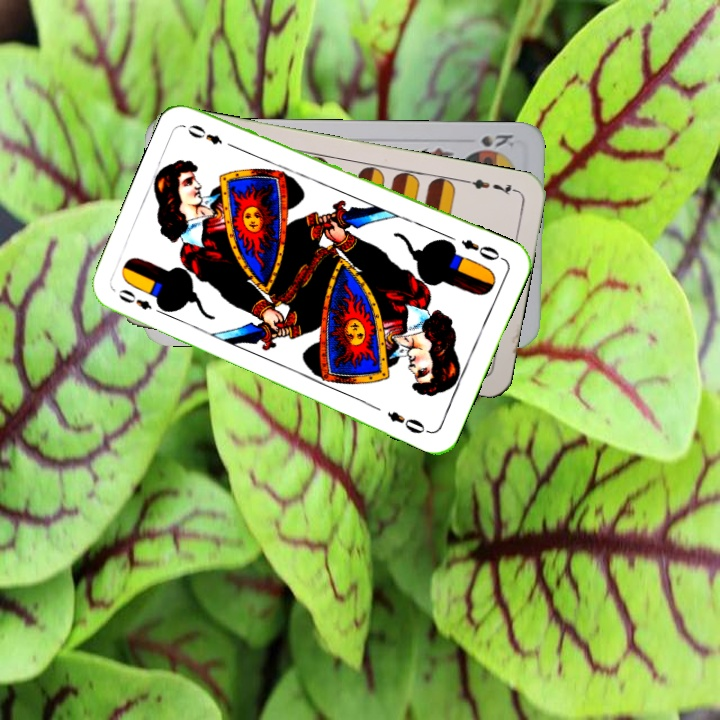E7: (462, 175, 520, 198)
EO: (114, 285, 169, 318), (457, 235, 507, 264)
SK: (463, 130, 519, 155)
